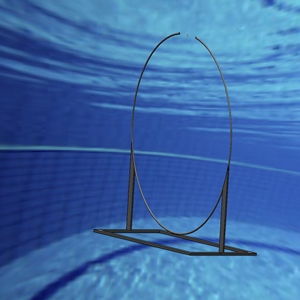circle: (91, 31, 257, 256)
